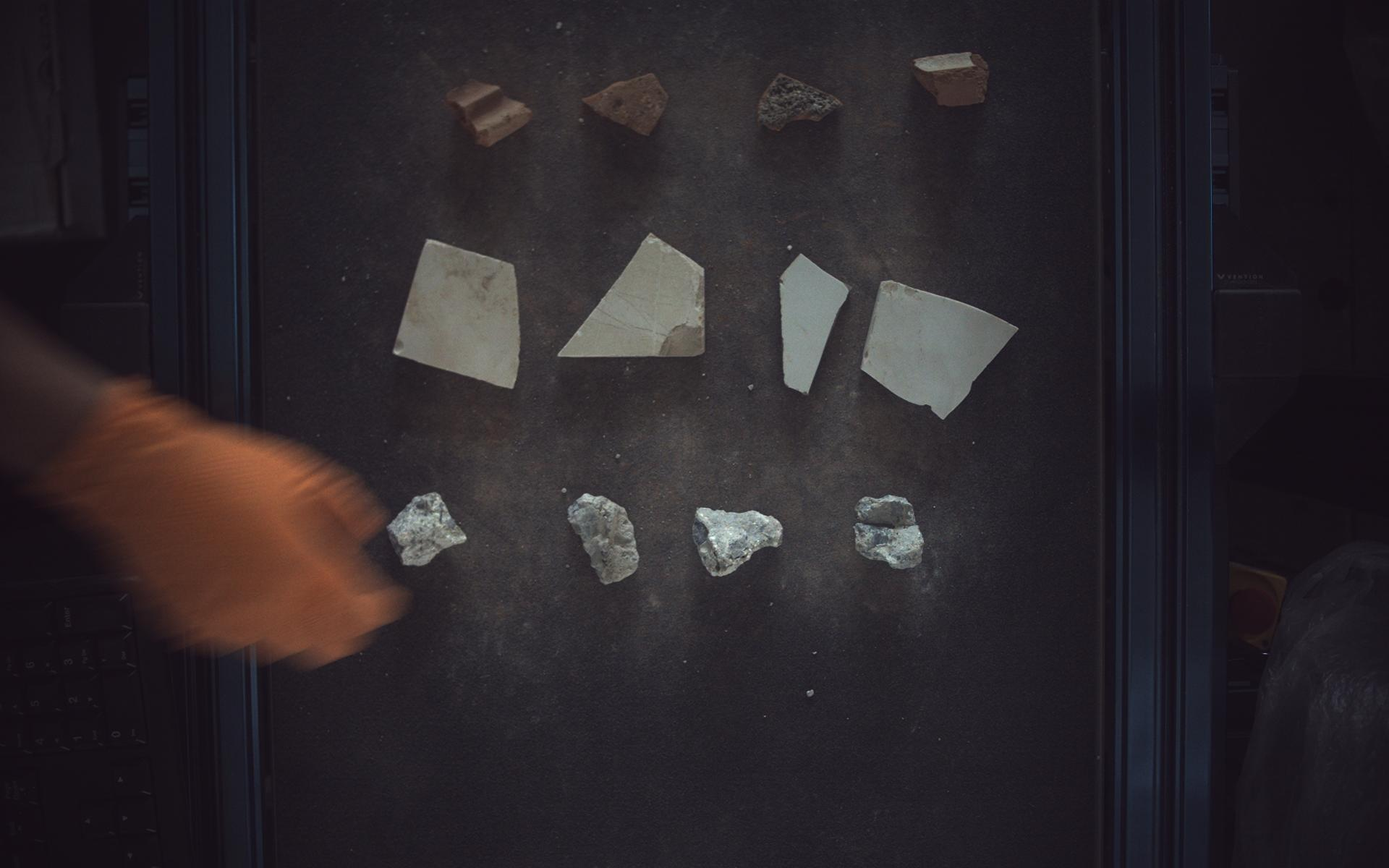brick: (446, 80, 533, 146), (584, 72, 669, 135), (758, 72, 844, 130), (914, 51, 991, 106)
concrete: (569, 494, 640, 585), (693, 509, 783, 577), (387, 493, 467, 567), (856, 496, 925, 570)
tile: (863, 280, 1020, 419), (393, 238, 520, 388), (559, 234, 706, 357), (781, 253, 851, 393)
